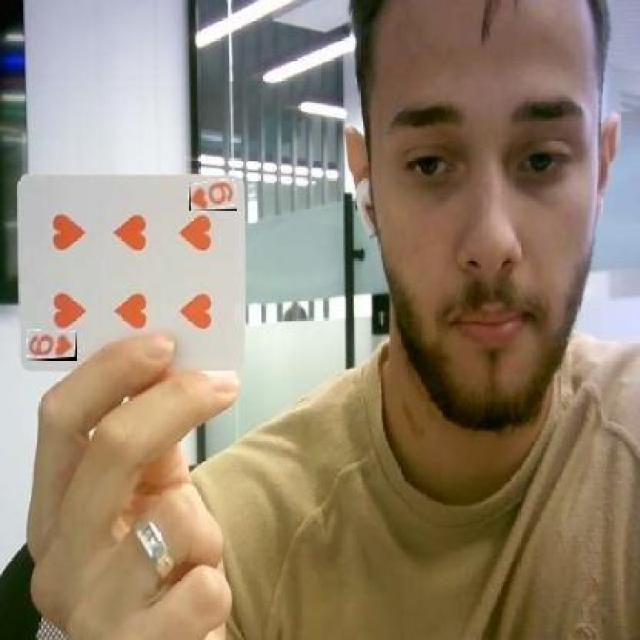6H: (189, 180, 237, 211), (28, 331, 77, 360)
